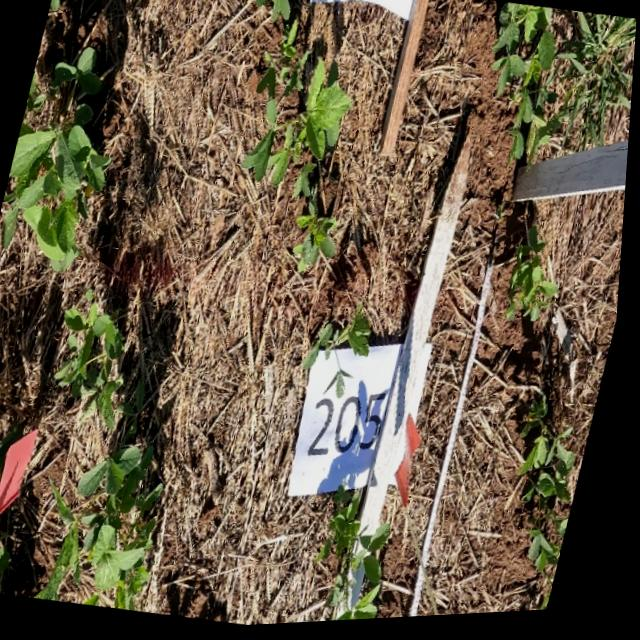grassy_weed: (560, 18, 637, 155)
soy_plant: (244, 25, 353, 272), (4, 47, 112, 271), (83, 447, 169, 612), (493, 8, 563, 168), (526, 402, 582, 585), (324, 491, 398, 625), (60, 303, 128, 429), (510, 231, 561, 327), (308, 309, 375, 372), (46, 522, 87, 601), (0, 426, 27, 476), (59, 483, 81, 525), (0, 539, 18, 587), (256, 0, 290, 24), (335, 374, 352, 399), (91, 596, 107, 607)
